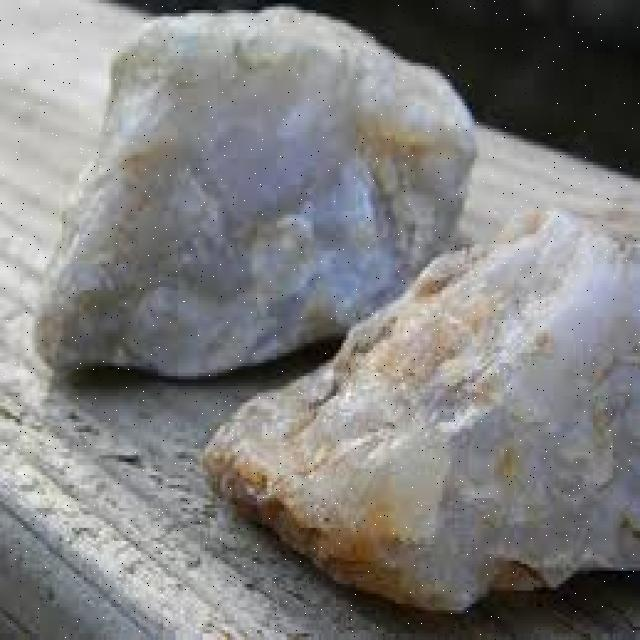Metamorphic: (215, 184, 640, 614), (39, 7, 477, 370)
